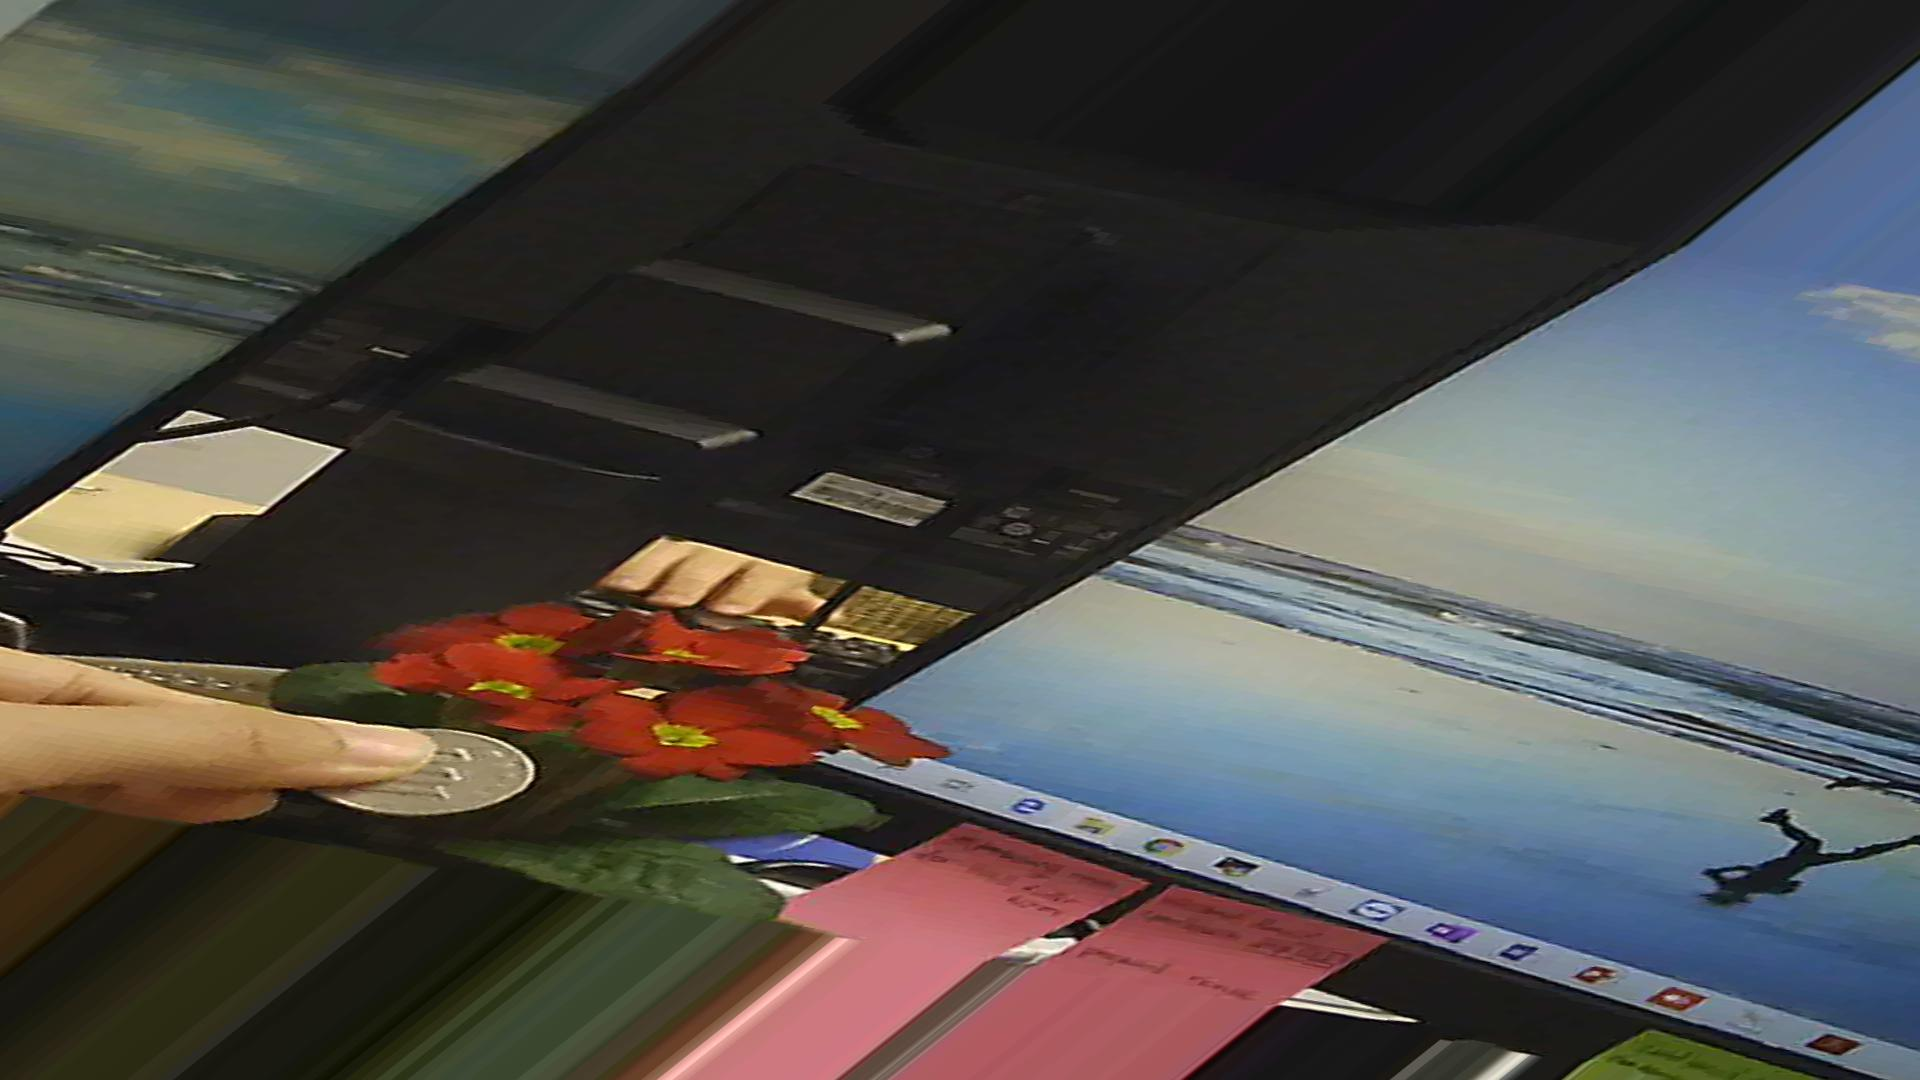100 Yen: (295, 713, 546, 837)
